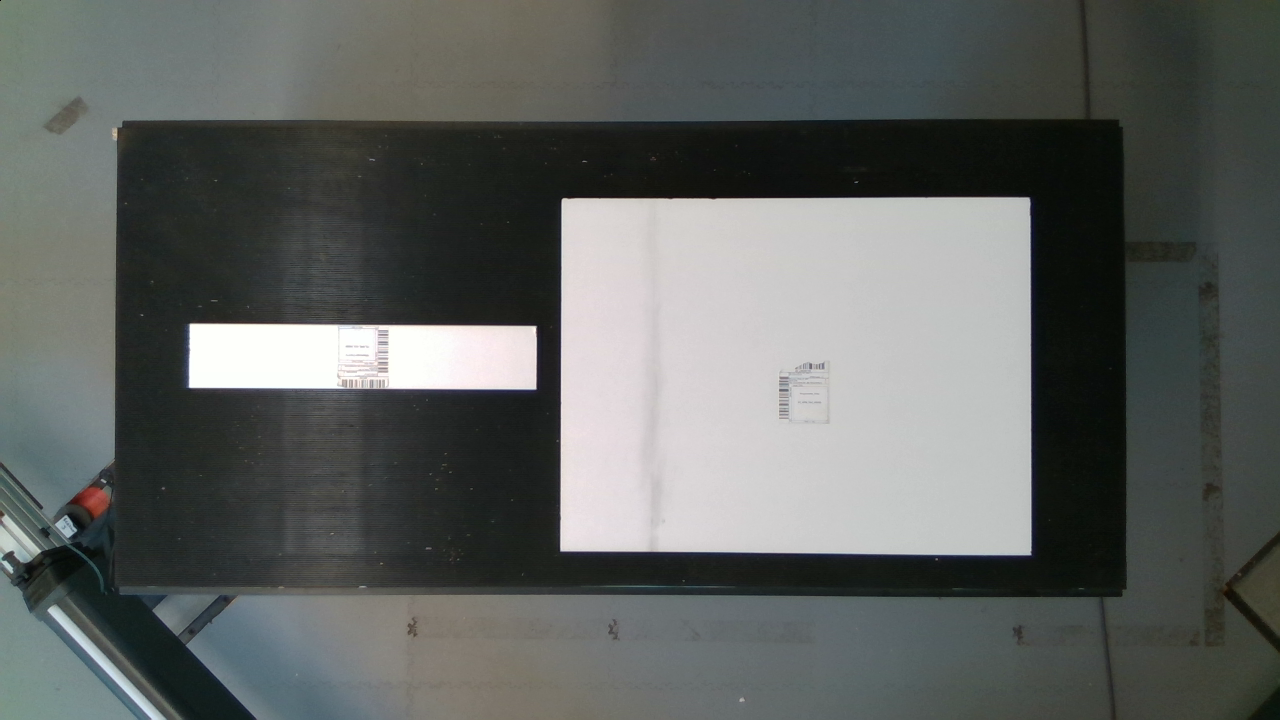barcode: (770, 347, 841, 435), (333, 317, 396, 390)
part1: (175, 310, 551, 400)
part2: (549, 184, 1048, 563)
